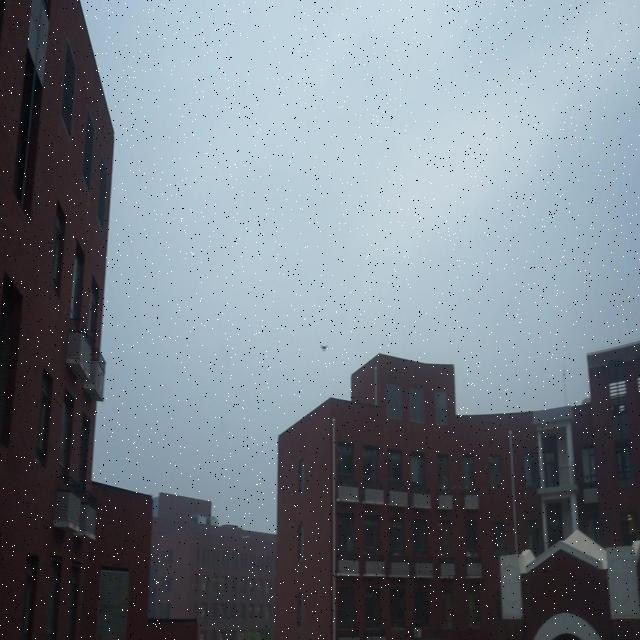UAV: (320, 344, 329, 352)
